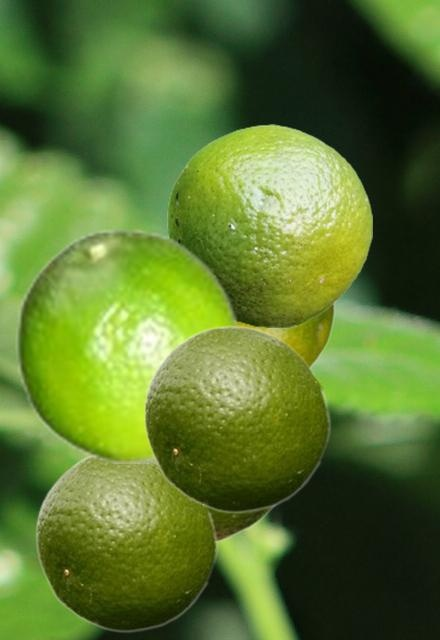calamansi: (15, 227, 241, 462), (167, 124, 371, 327), (143, 323, 330, 513), (35, 456, 217, 632), (262, 304, 334, 367), (212, 508, 275, 544)
